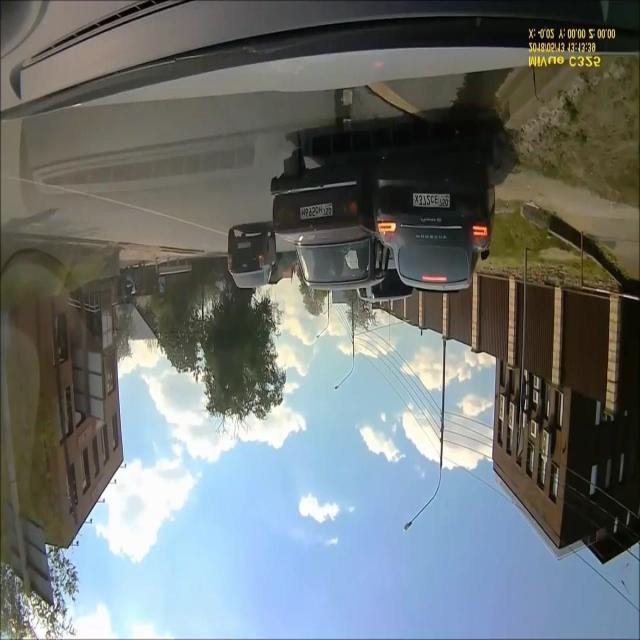vehicle: (266, 126, 510, 334)
